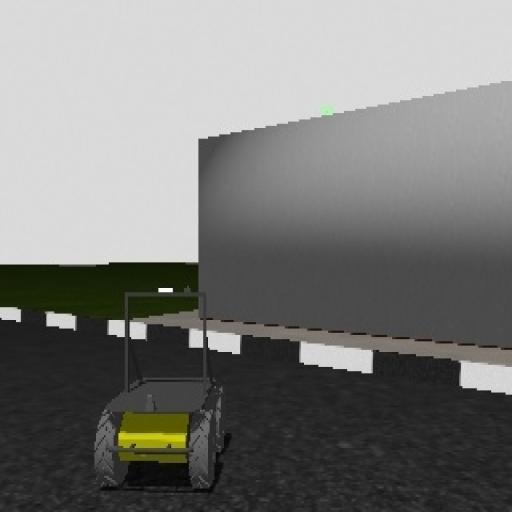huskya200: (84, 280, 232, 512)
